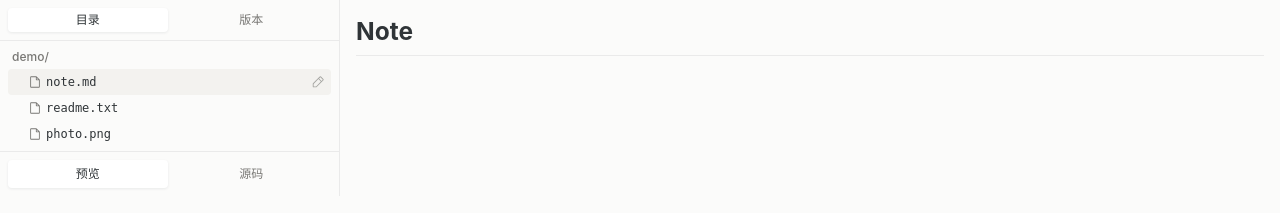
Test case: ProjectFilesPanel selection › keeps preview/source toggle for non-markdown text and remembers mode
Expected: the button named "编辑 note.md" is shown, top-left (309, 73), bottom-right (327, 91)
Expected: the button "预览" is enabled, top-left (8, 160), bottom-right (168, 188)
Click the button "源码": [251, 174] box top-left (172, 160), bottom-right (331, 188)
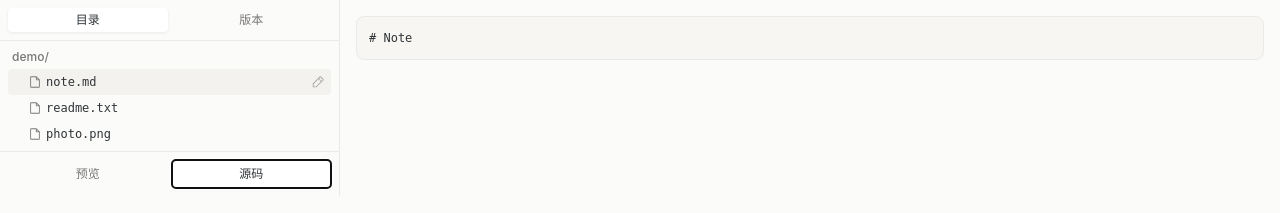
Expected: the button "源码" is pressed, top-left (172, 160), bottom-right (331, 188)
Click the button titled "readme.txt": [82, 108] box top-left (12, 100), bottom-right (305, 116)
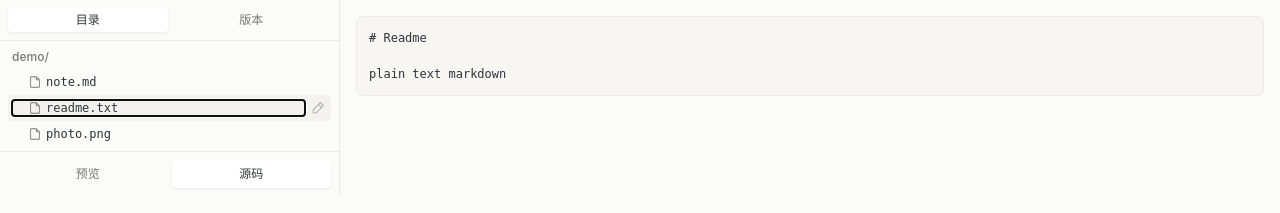
Expected: the button "源码" is enabled, top-left (172, 160), bottom-right (331, 188)
Expected: the text "# Readme plain text markdown" is shown, top-left (356, 16), bottom-right (1264, 96)
Click the button "预览": [88, 174] box top-left (8, 160), bottom-right (168, 188)
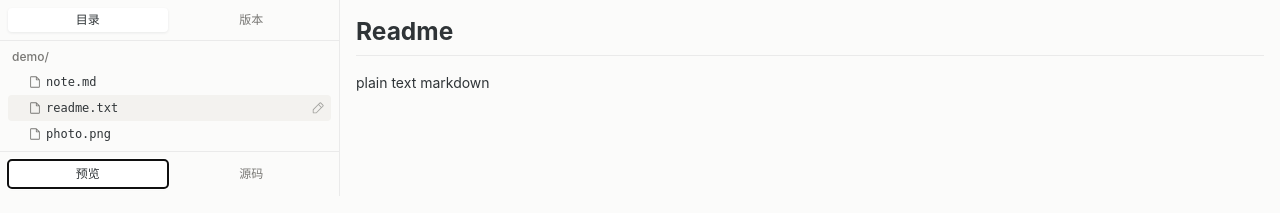
Expected: the heading "Readme" is shown, top-left (356, 16), bottom-right (1264, 56)
Click the button titled "photo.png": [79, 134] box top-left (12, 126), bottom-right (305, 142)
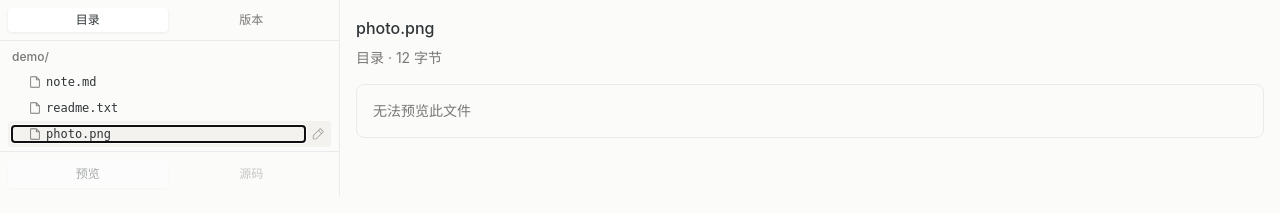
Expected: the button "预览" is disabled, top-left (8, 160), bottom-right (168, 188)
Expected: the button "源码" is disabled, top-left (172, 160), bottom-right (331, 188)
// Preference remembered: after leaving binary, restore previous preview choice.
Click the button titled "note.md": [71, 82] box top-left (12, 74), bottom-right (305, 90)
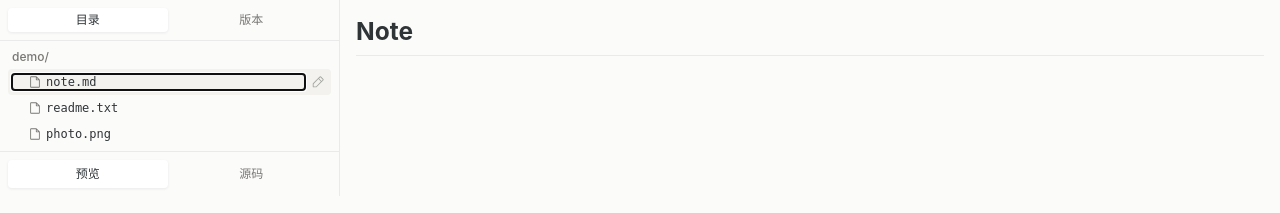
Expected: the button "预览" is enabled, top-left (8, 160), bottom-right (168, 188)
